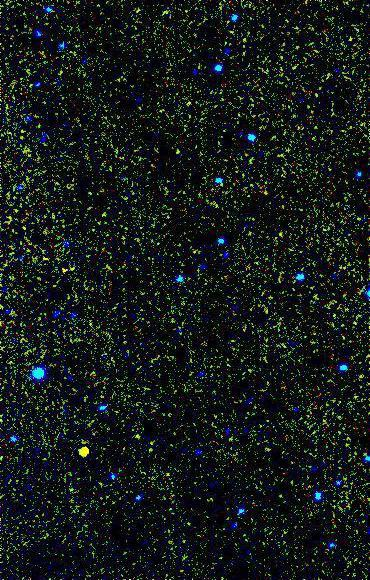star: (69, 437, 99, 467)
